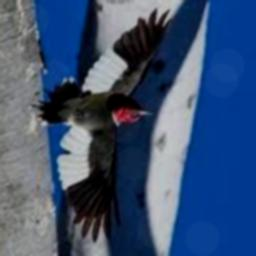Woodpecker: (28, 8, 172, 242)
